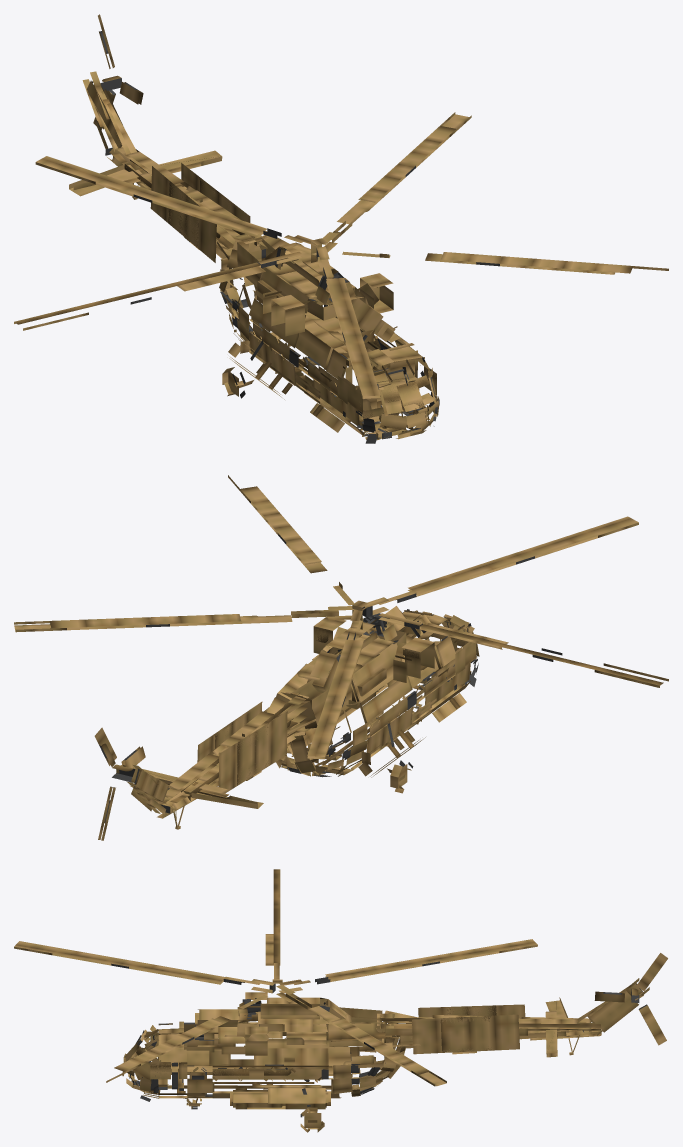
3 renders of one model, top to bottom at view 1: azimuth 30°, elevation 25°; view 2: azimuth 150°, elevation 25°; view 3: azimuth 270°, elevation 25°, orthographic. The views are drawn at different scales.
Visible parts, largest first — view 1: body, vint1, vint2; view 2: body, vint1, vint2; view 3: body, vint1, vint2.
Part boxes in pixels (x1=…): body: x1=69, y1=71, x2=439, y2=443; vint1: x1=14, y1=112, x2=668, y2=398; vint2: x1=93, y1=14, x2=143, y2=129; body: x1=121, y1=606, x2=479, y2=829; vint1: x1=14, y1=475, x2=668, y2=759; vint2: x1=94, y1=727, x2=145, y2=840; body: x1=122, y1=978, x2=649, y2=1132; vint1: x1=14, y1=869, x2=537, y2=1086; vint2: x1=594, y1=953, x2=667, y2=1045.
Bounding box in the file's own units: 20.02 × 7 × 25.7.
